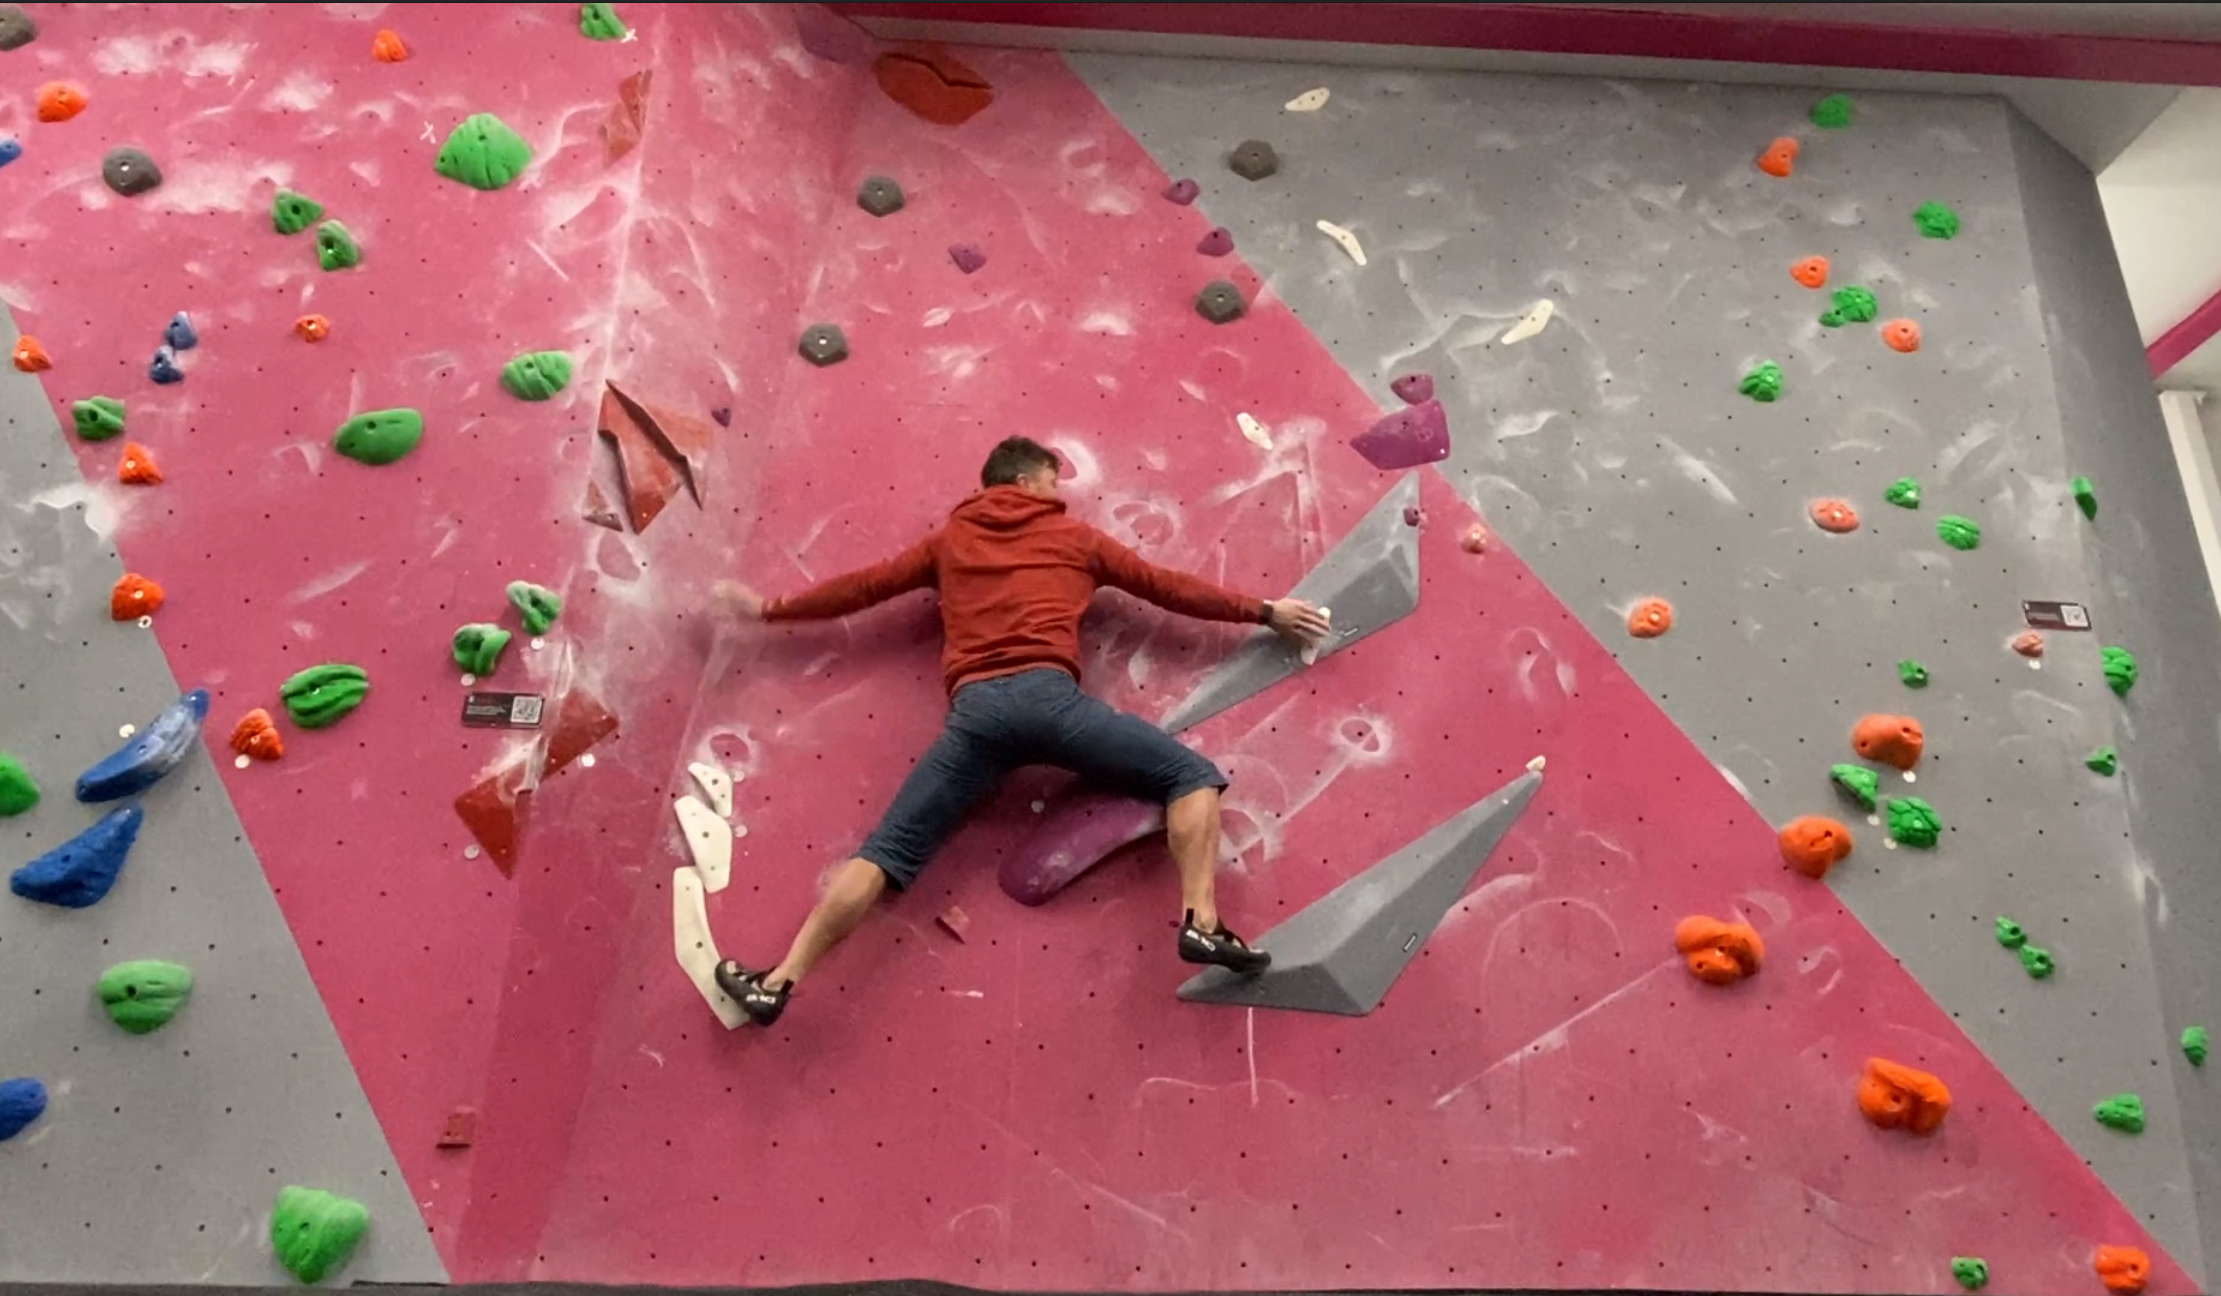hold: (656, 859, 780, 1043), (71, 683, 217, 805), (608, 367, 728, 512), (531, 636, 634, 787), (8, 802, 140, 916), (865, 40, 1010, 143), (453, 733, 544, 873), (268, 1176, 373, 1282), (82, 947, 204, 1037), (660, 791, 750, 899), (1857, 1051, 1960, 1143), (1667, 906, 1775, 994), (430, 103, 537, 191), (1345, 403, 1461, 471), (275, 656, 376, 730), (330, 400, 430, 474), (1774, 807, 1860, 886), (1852, 705, 1933, 779), (497, 343, 580, 407), (674, 753, 743, 819), (1308, 210, 1376, 276), (500, 569, 568, 634), (225, 697, 285, 770), (100, 568, 165, 631), (1496, 290, 1562, 352), (447, 620, 514, 679), (574, 471, 628, 540), (69, 390, 131, 451), (262, 182, 327, 239), (1291, 597, 1342, 670), (302, 213, 362, 273), (430, 1099, 484, 1163), (1828, 758, 1885, 818), (597, 99, 648, 165), (2090, 1085, 2147, 1143), (2091, 1234, 2149, 1293), (29, 71, 89, 127), (106, 441, 170, 494), (1626, 589, 1680, 646), (615, 66, 660, 134), (929, 896, 979, 950), (1808, 494, 1863, 542), (1737, 356, 1788, 407), (2068, 467, 2108, 531), (362, 25, 413, 74), (1280, 77, 1336, 122), (1191, 221, 1243, 265), (1754, 131, 1800, 179), (1936, 508, 1983, 554), (8, 332, 54, 380), (2176, 1011, 2212, 1071), (2019, 943, 2065, 987), (1950, 1245, 1996, 1290), (1387, 370, 1442, 407), (142, 343, 187, 387), (1788, 251, 1834, 293), (1877, 471, 1925, 511), (159, 305, 201, 350), (2005, 620, 2047, 665), (945, 236, 990, 276), (1160, 171, 1208, 208), (1896, 657, 1933, 697), (1450, 518, 1491, 554), (2084, 739, 2119, 781), (290, 309, 333, 343), (1993, 910, 2027, 953), (1396, 500, 1428, 532), (1522, 750, 1550, 773)
